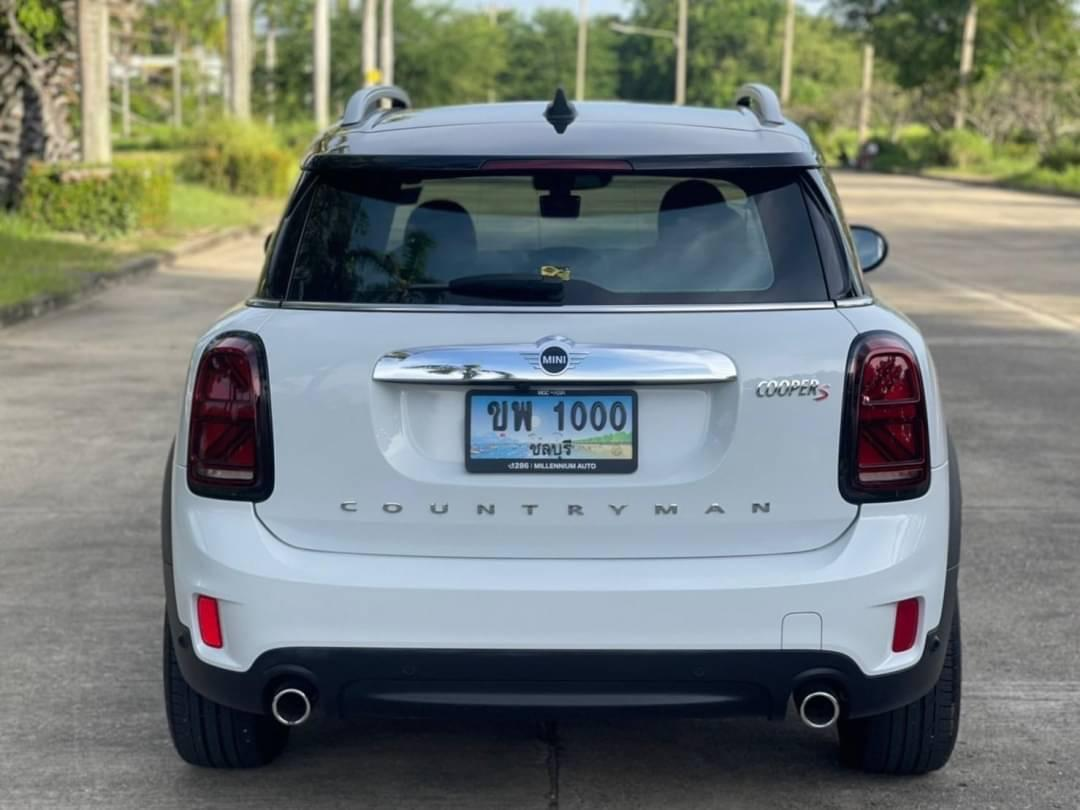license-plate: (463, 384, 643, 475)
